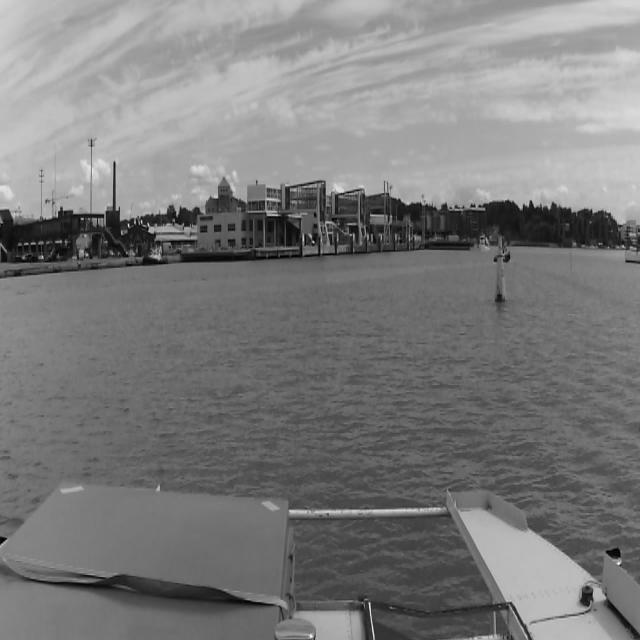buoy: (494, 235, 507, 302), (568, 251, 572, 272)
ship: (490, 246, 514, 262), (478, 230, 490, 252), (146, 250, 163, 261)
